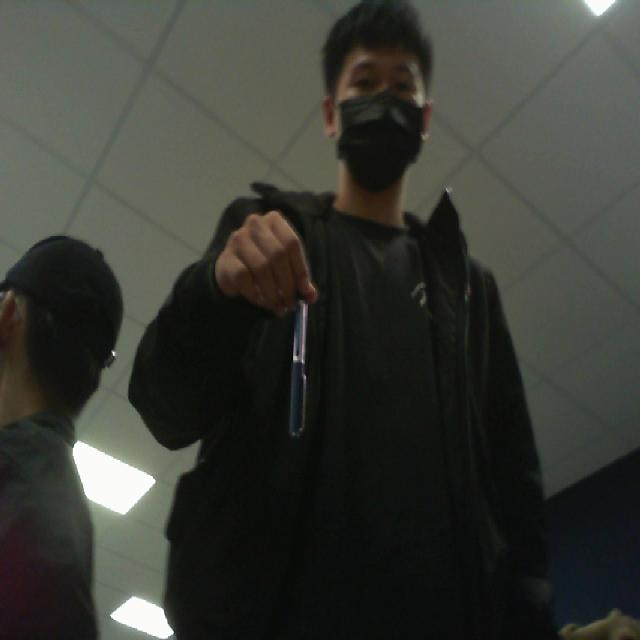Pen: (274, 264, 324, 456)
